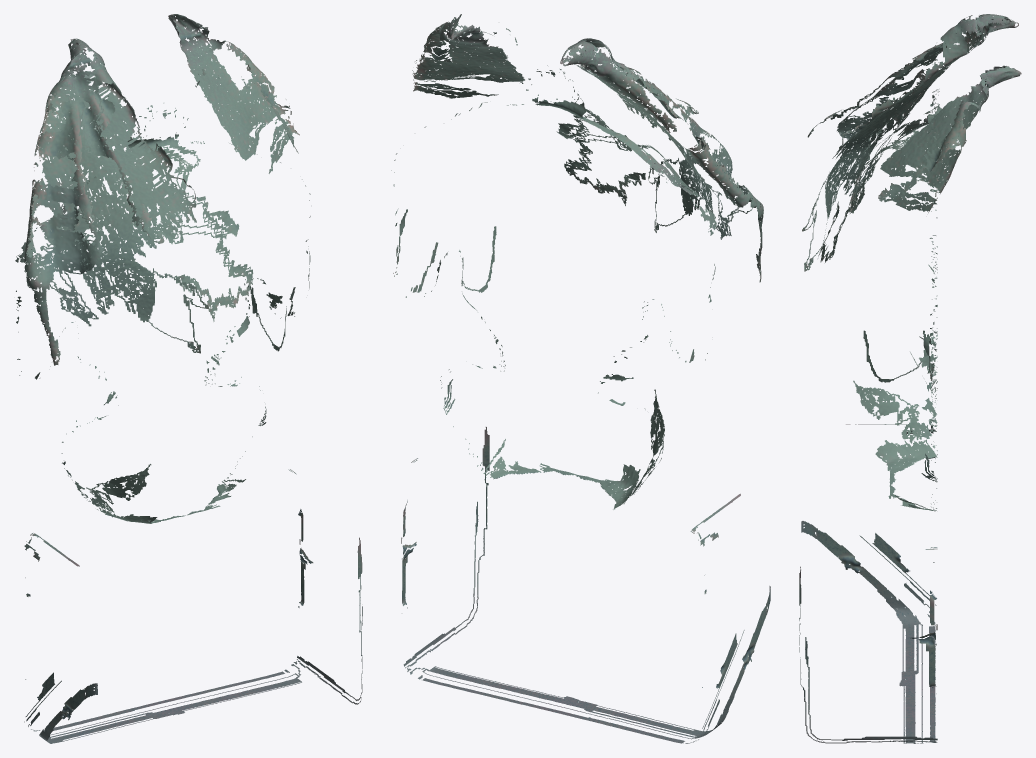
Rendered from cthulhu17_material_0.007_lev1.glb.
3 views of the same model, side by side, from view 1: azimuth 30°, elevation 25°; view 2: azimuth 150°, elevation 25°; view 3: azimuth 270°, elevation 25° (orthographic). The views are drawn at different scales.
Visible parts, largest first — view 1: cthulhu17_material_0.007_lev1; view 2: cthulhu17_material_0.007_lev1; view 3: cthulhu17_material_0.007_lev1.
Boxes of the visible parts, x1,y1,x2,y2 form: cthulhu17_material_0.007_lev1: (15, 14, 362, 743); cthulhu17_material_0.007_lev1: (391, 14, 770, 743); cthulhu17_material_0.007_lev1: (799, 14, 1021, 743).
Bounding box in the file's own units: 2.76 × 5.53 × 1.73.
